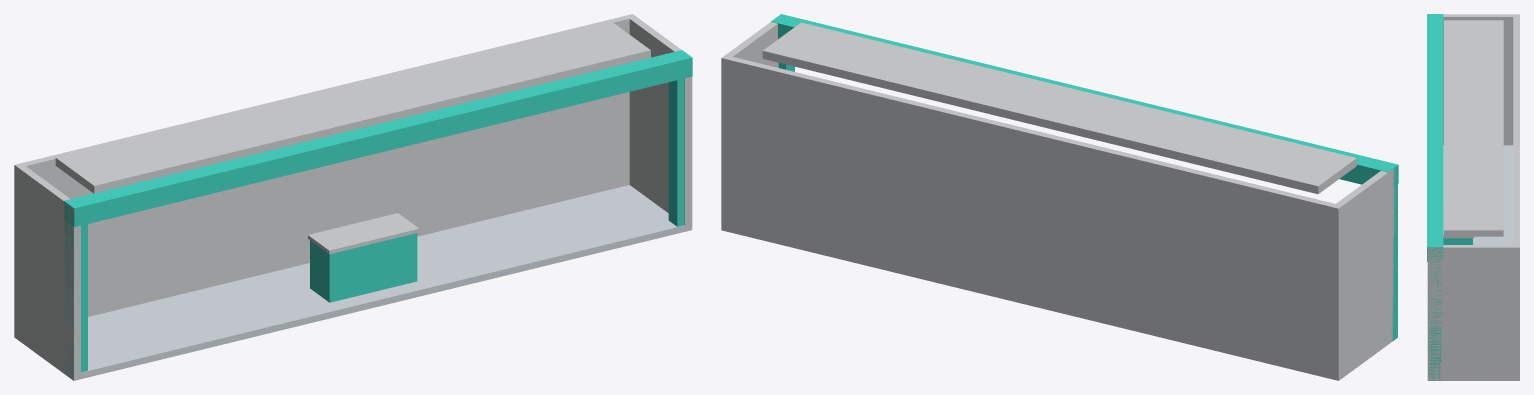
The picture shows the model from 3 angles, left to right: view 1: azimuth 30°, elevation 25°; view 2: azimuth 150°, elevation 25°; view 3: azimuth 270°, elevation 25°; orthographic projection. The views are drawn at different scales.
Parts seen in each view (by area): view 1: Exhibition Booth Concept; view 2: Exhibition Booth Concept; view 3: Exhibition Booth Concept.
Boxes of the visible parts, bbox=[...] form: Exhibition Booth Concept: bbox=[14, 14, 692, 380]; Exhibition Booth Concept: bbox=[721, 14, 1398, 380]; Exhibition Booth Concept: bbox=[1427, 14, 1519, 380].
Size of the model in its own units: 12 by 3.34 by 2.01.
